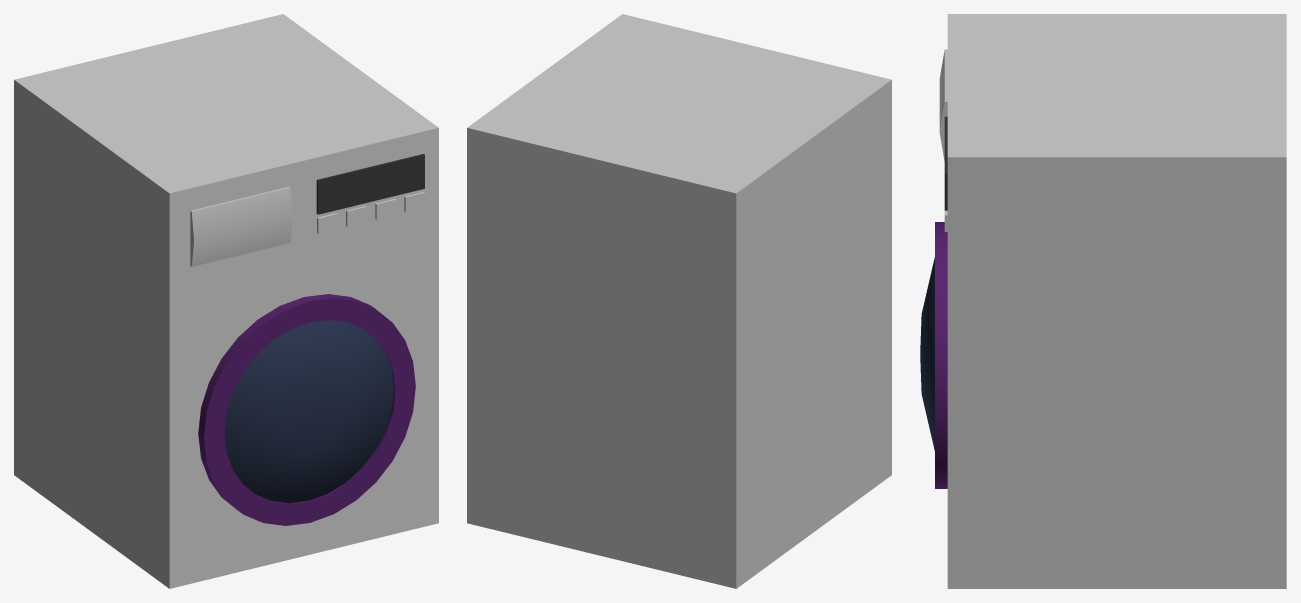
The model's file is washing machine.fbx.
3 renders of one model, left to right at view 1: azimuth 30°, elevation 25°; view 2: azimuth 150°, elevation 25°; view 3: azimuth 270°, elevation 25°, orthographic. The views are drawn at different scales.
Visible parts, largest first — view 1: Box002, Circle001, Box006, Box008; view 2: Box002; view 3: Box002, Circle001, Box006.
Part boxes in pixels (x1,y1,x2,y2): Box002: (14, 14, 438, 588); Circle001: (198, 294, 415, 525); Box006: (190, 186, 425, 266); Box008: (316, 154, 424, 214); Box002: (467, 14, 891, 588); Box002: (947, 14, 1286, 588); Circle001: (920, 222, 947, 488); Box006: (939, 49, 947, 231).
Bounding box in the file's own units: 49.82 × 69.93 × 53.84.
